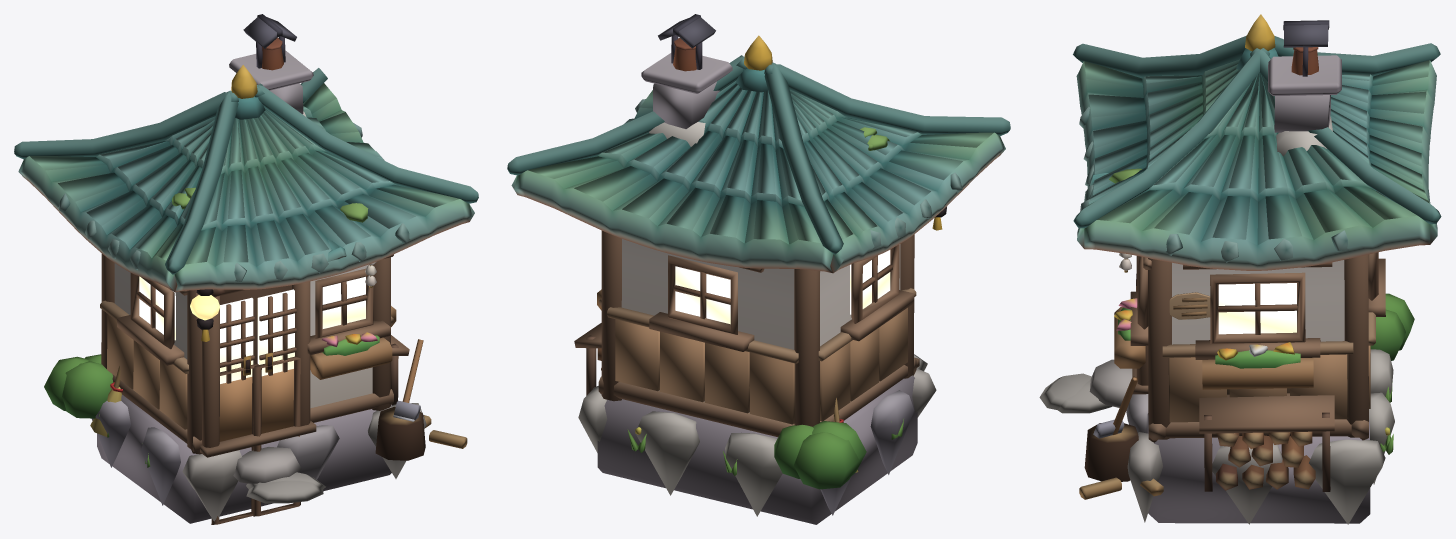
Rendered from home-1-v0.glb.
The picture shows the model from 3 angles, left to right: view 1: azimuth 30°, elevation 25°; view 2: azimuth 150°, elevation 25°; view 3: azimuth 270°, elevation 25°; orthographic projection. The views are drawn at different scales.
Parts seen in each view (by area): view 1: home, window_glow; view 2: home, window_glow; view 3: home, window_glow.
Boxes of the visible parts, bbox=[...] form: home: bbox=[14, 14, 478, 524]; window_glow: bbox=[139, 276, 365, 383]; home: bbox=[507, 14, 1010, 524]; window_glow: bbox=[675, 250, 890, 324]; home: bbox=[1039, 14, 1441, 524]; window_glow: bbox=[1218, 283, 1296, 334].
Size of the model in its own units: 2.36 by 3.01 by 2.32.
